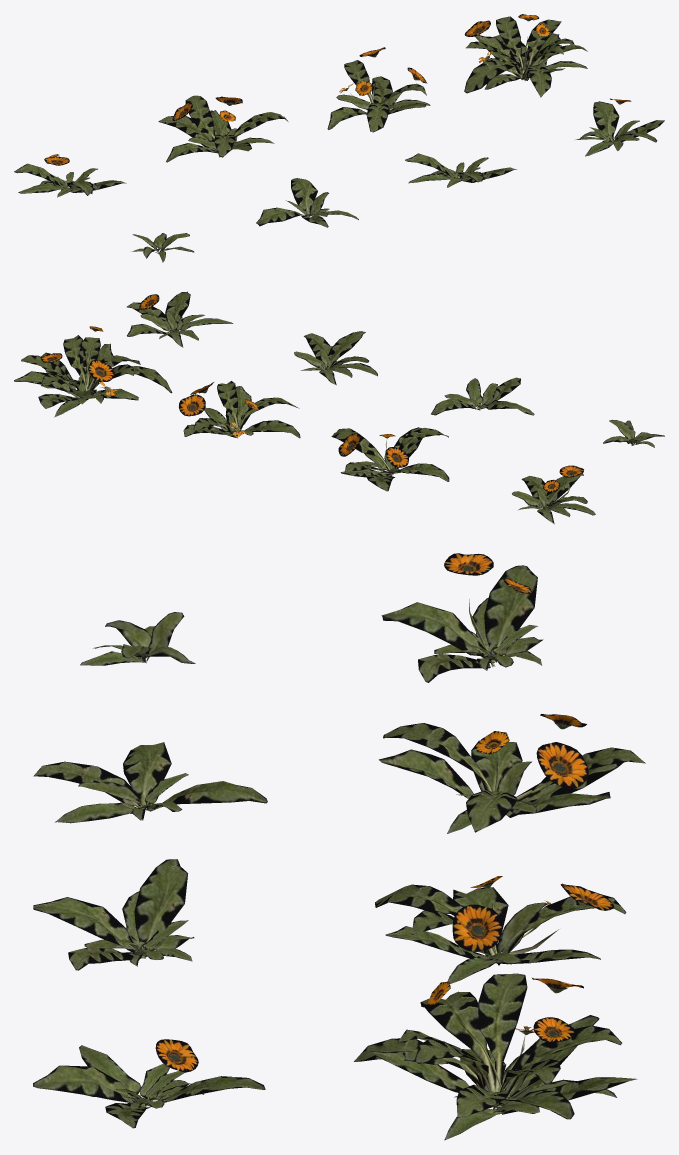
File: th_gazanie.glb
3 views of the same model, one above another, from view 1: azimuth 30°, elevation 25°; view 2: azimuth 150°, elevation 25°; view 3: azimuth 270°, elevation 25° (orthographic). The views are drawn at different scales.
Visible parts, largest first — view 1: flower_gazania_h_LOD0, flower_gazania_f_LOD0, flower_gazania_g_LOD0, flower_gazania_d_LOD0, flower_gazania_b_LOD0, flower_gazania_e_LOD0, flower_gazania_c_LOD0, flower_gazania_a_LOD0; view 2: flower_gazania_h_LOD0, flower_gazania_f_LOD0, flower_gazania_g_LOD0, flower_gazania_d_LOD0, flower_gazania_e_LOD0, flower_gazania_c_LOD0, flower_gazania_b_LOD0, flower_gazania_a_LOD0; view 3: flower_gazania_h_LOD0, flower_gazania_f_LOD0, flower_gazania_g_LOD0, flower_gazania_e_LOD0, flower_gazania_c_LOD0, flower_gazania_d_LOD0, flower_gazania_b_LOD0, flower_gazania_a_LOD0.
Part boxes in pixels (left/top/right/bottom): flower_gazania_h_LOD0: left=464, top=14, right=587, bottom=97; flower_gazania_f_LOD0: left=158, top=95, right=288, bottom=162; flower_gazania_g_LOD0: left=327, top=47, right=430, bottom=132; flower_gazania_d_LOD0: left=575, top=98, right=664, bottom=156; flower_gazania_b_LOD0: left=256, top=178, right=358, bottom=227; flower_gazania_e_LOD0: left=14, top=154, right=126, bottom=197; flower_gazania_c_LOD0: left=405, top=153, right=516, bottom=187; flower_gazania_a_LOD0: left=132, top=233, right=194, bottom=262; flower_gazania_h_LOD0: left=14, top=326, right=172, bottom=417; flower_gazania_f_LOD0: left=331, top=427, right=449, bottom=491; flower_gazania_g_LOD0: left=179, top=381, right=300, bottom=438; flower_gazania_d_LOD0: left=127, top=291, right=233, bottom=347; flower_gazania_e_LOD0: left=512, top=465, right=595, bottom=524; flower_gazania_c_LOD0: left=294, top=331, right=377, bottom=385; flower_gazania_b_LOD0: left=431, top=377, right=534, bottom=415; flower_gazania_a_LOD0: left=603, top=419, right=664, bottom=447; flower_gazania_h_LOD0: left=354, top=973, right=637, bottom=1140; flower_gazania_f_LOD0: left=379, top=714, right=645, bottom=833; flower_gazania_g_LOD0: left=375, top=876, right=626, bottom=983; flower_gazania_e_LOD0: left=381, top=553, right=543, bottom=682; flower_gazania_c_LOD0: left=33, top=859, right=194, bottom=970; flower_gazania_d_LOD0: left=33, top=1039, right=265, bottom=1128; flower_gazania_b_LOD0: left=33, top=742, right=267, bottom=823; flower_gazania_a_LOD0: left=80, top=612, right=195, bottom=665.
Size of the model in its own units: 1.48 by 0.1653 by 0.7015.
1 material, 1 textured.
